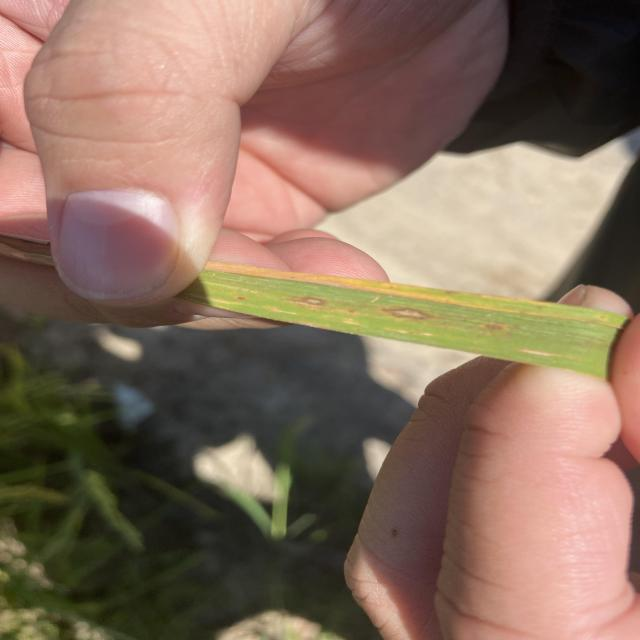Dao on: (383, 307, 436, 319), (482, 322, 506, 331), (304, 297, 326, 306)
